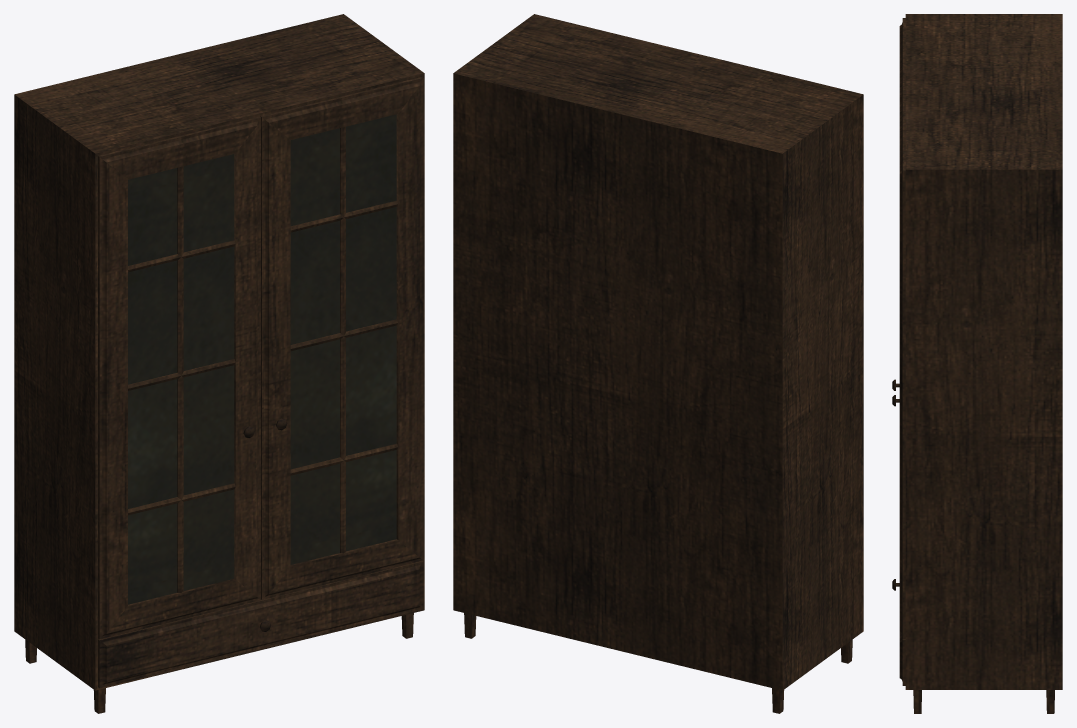
File: wardrobe_mp_2_1.dae
3 renders of one model, left to right at view 1: azimuth 30°, elevation 25°; view 2: azimuth 150°, elevation 25°; view 3: azimuth 270°, elevation 25°, orthographic. The views are drawn at different scales.
Visible parts, largest first — view 1: wardrobe_mp_2_1, wardrobe_mp_2_1_drawer; view 2: wardrobe_mp_2_1; view 3: wardrobe_mp_2_1, wardrobe_mp_2_1_drawer.
Boxes of the visible parts, box(x1,y1,x2,y2) form: wardrobe_mp_2_1: box(14, 14, 424, 713); wardrobe_mp_2_1_drawer: box(98, 561, 423, 688); wardrobe_mp_2_1: box(453, 14, 863, 713); wardrobe_mp_2_1: box(892, 14, 1062, 713); wardrobe_mp_2_1_drawer: box(892, 579, 905, 685).
Bounding box in the file's own units: 1.22 × 0.5645 × 2.
2 materials, 2 textured.
